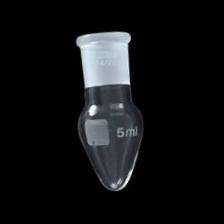Pear shaped flask: (65, 26, 145, 191)
